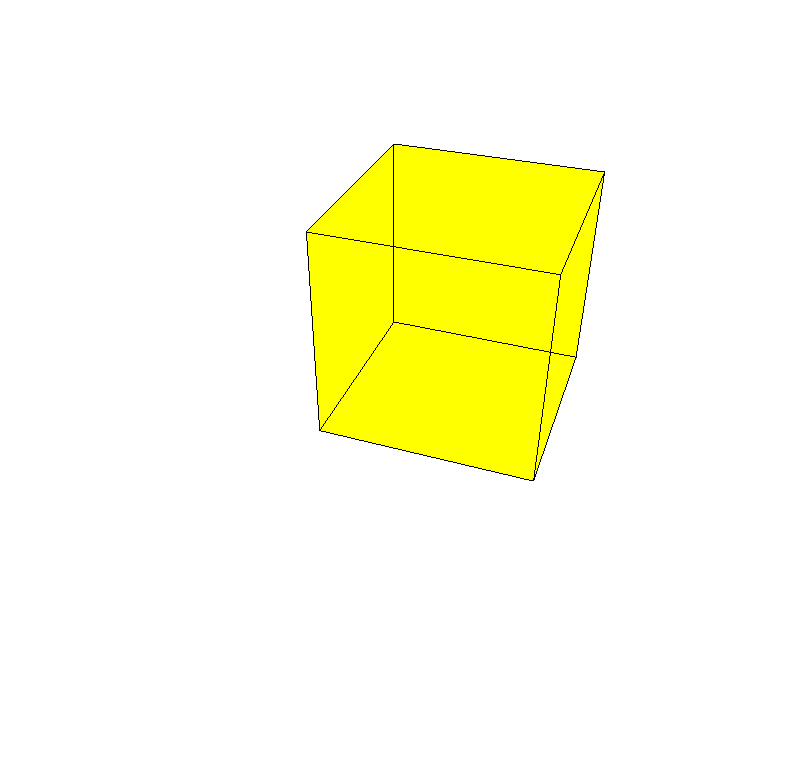NothingYellow: (61, 108, 608, 487)
